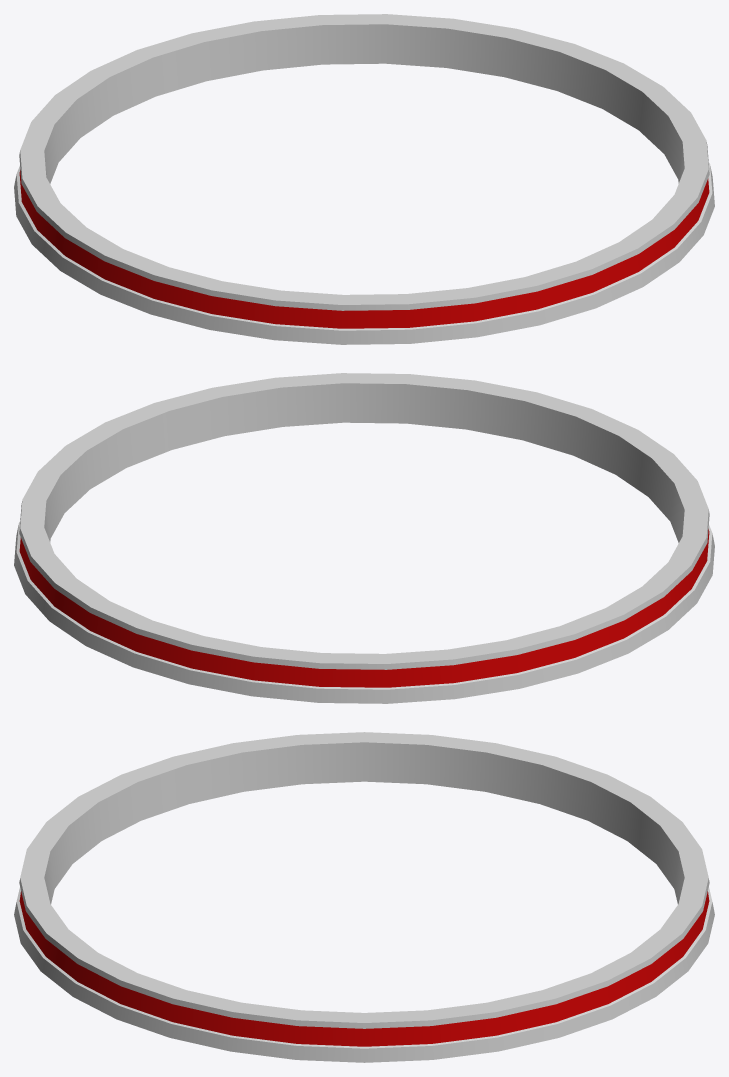
Rendered from DiceArenaSide_01.fbx.
3 renders of one model, top to bottom at view 1: azimuth 30°, elevation 25°; view 2: azimuth 150°, elevation 25°; view 3: azimuth 270°, elevation 25°, orthographic.
Visible parts, largest first — view 1: DiceArenaSide_01; view 2: DiceArenaSide_01; view 3: DiceArenaSide_01.
Boxes of the visible parts, x1=… form: DiceArenaSide_01: x1=14, y1=14, x2=714, y2=344; DiceArenaSide_01: x1=14, y1=373, x2=714, y2=703; DiceArenaSide_01: x1=14, y1=732, x2=714, y2=1062.
Bounding box in the file's own units: 208 × 12.32 × 208.
